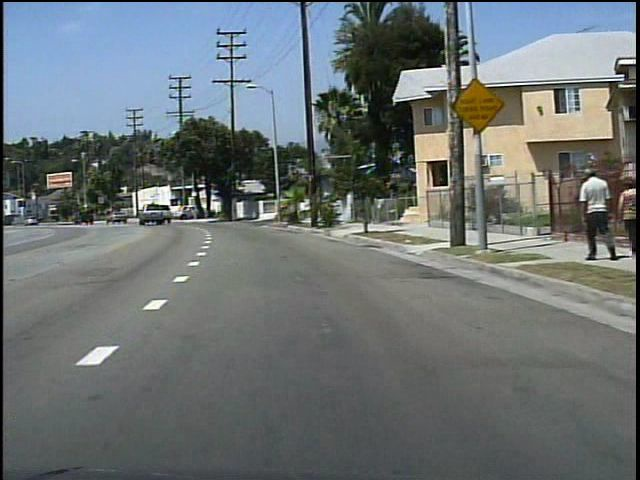person: (570, 165, 614, 263)
